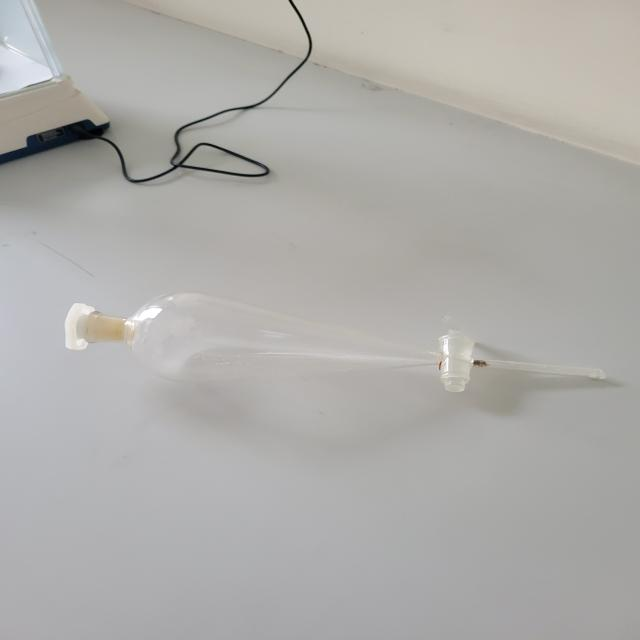Separating_Funnel: (45, 268, 640, 448)
